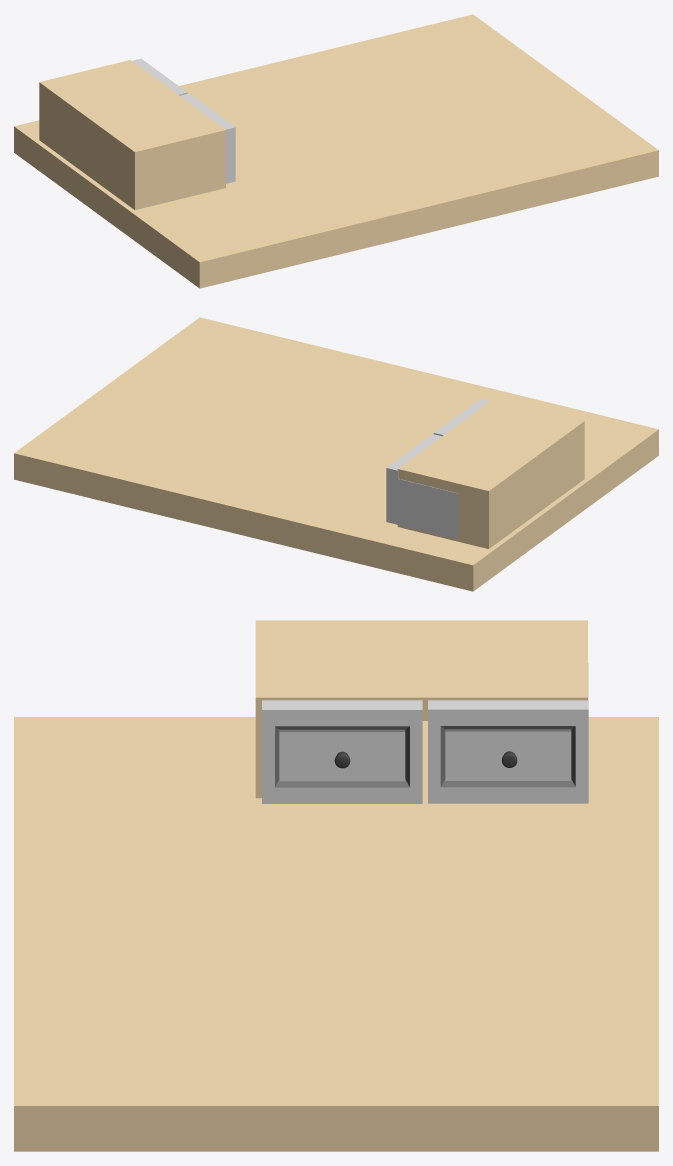
File: drawer.glb
The picture shows the model from 3 angles, top to bottom: view 1: azimuth 30°, elevation 25°; view 2: azimuth 150°, elevation 25°; view 3: azimuth 270°, elevation 25°; orthographic projection. The views are drawn at different scales.
Parts seen in each view (by area): view 1: closet_knob.002, closet_knob.001, cabinet-door.002; view 2: closet_knob.002, cabinet-door.002, closet_knob.001; view 3: closet_knob.002, cabinet-door.002, closet_knob.001.
Boxes of the visible parts, left/top/right/bottom form: closet_knob.002: left=14, top=14, right=658, bottom=288; closet_knob.001: left=180, top=93, right=235, bottom=183; cabinet-door.002: left=132, top=58, right=187, bottom=95; closet_knob.002: left=14, top=317, right=658, bottom=591; cabinet-door.002: left=386, top=434, right=458, bottom=539; closet_knob.001: left=433, top=399, right=489, bottom=435; closet_knob.002: left=14, top=620, right=658, bottom=1151; cabinet-door.002: left=428, top=663, right=588, bottom=803; closet_knob.001: left=262, top=700, right=422, bottom=803.
Bounding box in the file's own units: 9.21 × 1.62 × 6.45.
